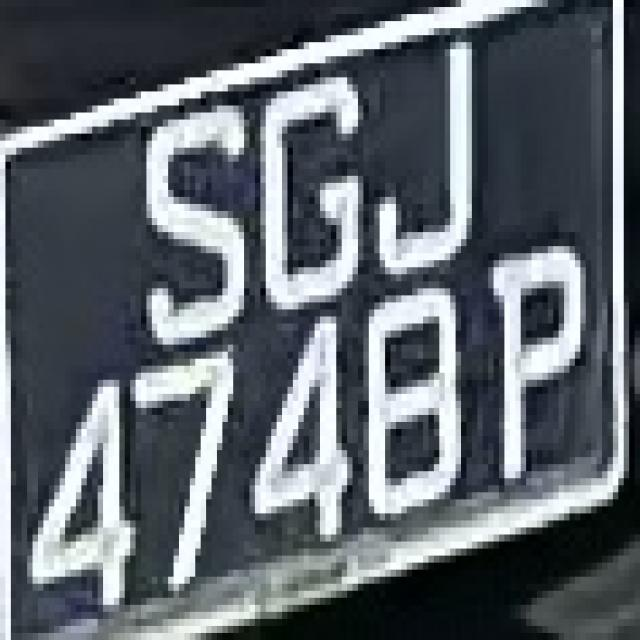4: (0, 359, 141, 626), (260, 302, 364, 556)
7: (130, 330, 255, 612)
8: (358, 274, 472, 528)
G: (244, 85, 380, 302)
J: (374, 21, 499, 274)
P: (472, 239, 591, 478)
S: (130, 120, 244, 344)
